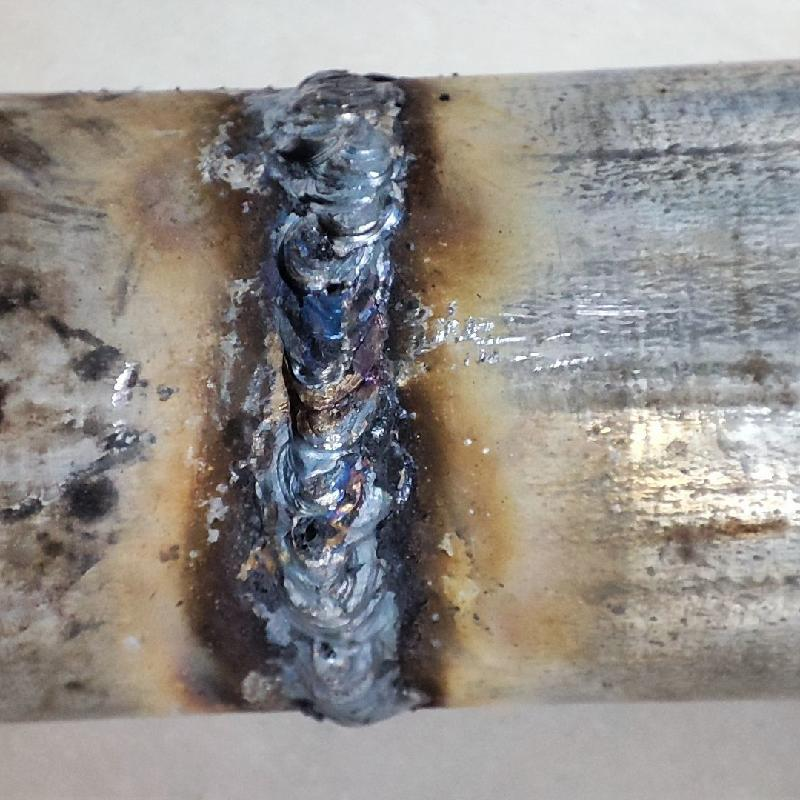Surface_pores: (293, 518, 335, 553), (289, 356, 320, 388), (317, 276, 350, 305)
